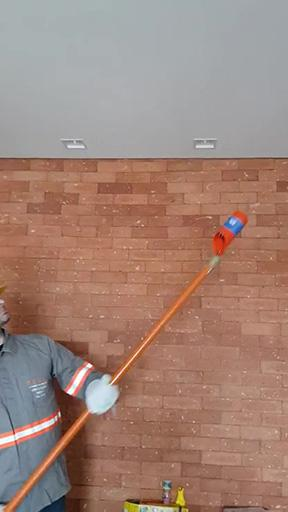Detector_Tensao_Contato: (209, 201, 259, 255)
Vara_Manobra: (1, 257, 220, 512)
